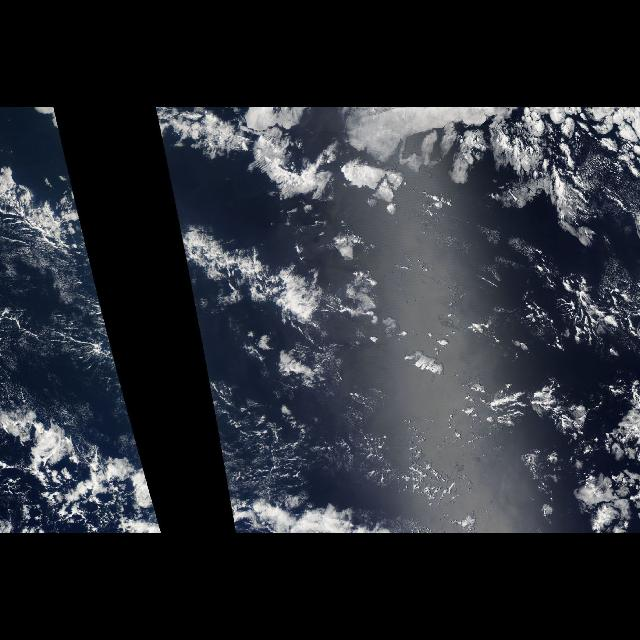Fish: (168, 175, 322, 298), (2, 175, 100, 298)
Flower: (231, 110, 434, 276)
Sugar: (3, 232, 113, 398)
